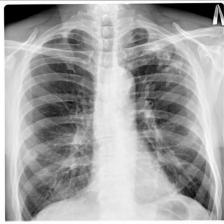tuberculosis: (7, 15, 224, 224)
